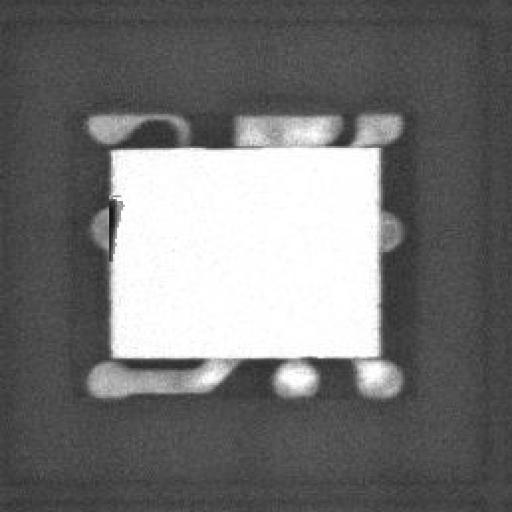DIE_BROKEN: (103, 192, 123, 262)
